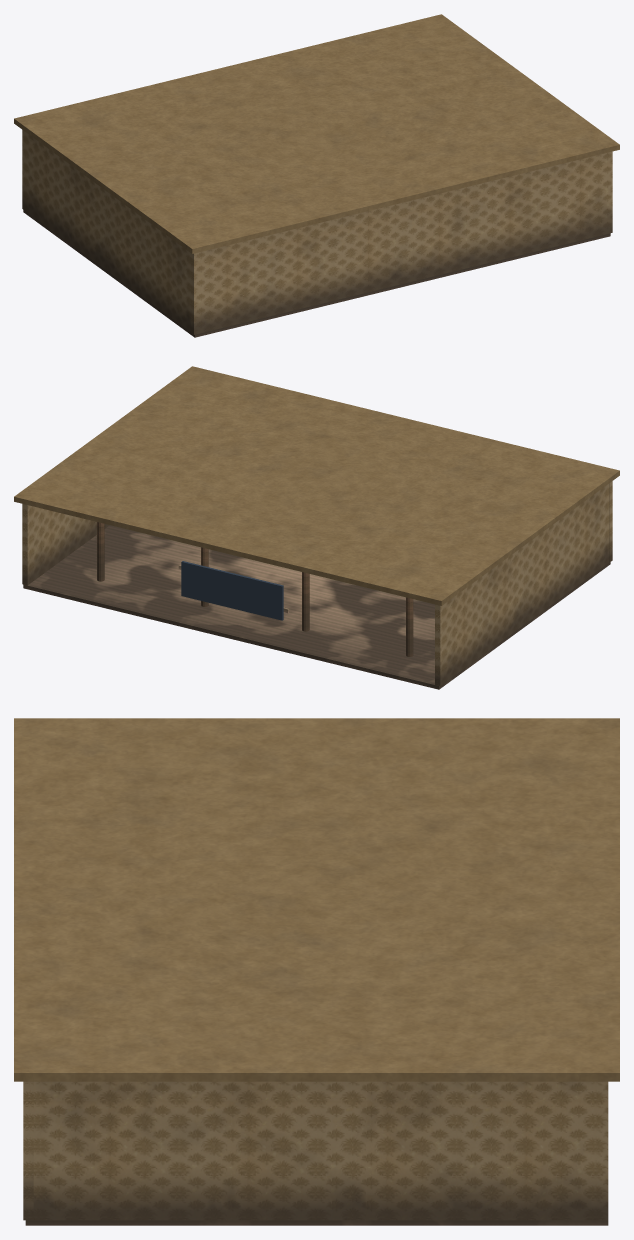
The model's file is abandoned_lounge.glb.
3 renders of one model, top to bottom at view 1: azimuth 30°, elevation 25°; view 2: azimuth 150°, elevation 25°; view 3: azimuth 270°, elevation 25°, orthographic. The views are drawn at different scales.
Visible parts, largest first — view 1: Roof, WallBack, WallLeft, Floor; view 2: Roof, Floor, WallLeft, WallRight, Ocean, Post_5.2_3.6, Post_-1.7_3.6, Post_-5.2_3.6; view 3: Roof, WallRight, Floor, WallBack.
Part boxes in pixels (box(x1,y1,x2,y2)): Roof: box(14, 14, 619, 253); WallBack: box(191, 151, 612, 334); WallLeft: box(22, 130, 190, 331); Floor: box(23, 210, 610, 337); Roof: box(14, 366, 619, 605); Floor: box(23, 525, 610, 689); WallLeft: box(435, 483, 609, 686); WallRight: box(22, 504, 109, 585); Ocean: box(181, 561, 283, 620); Post_5.2_3.6: box(97, 522, 104, 581); Post_-1.7_3.6: box(302, 572, 309, 631); Post_-5.2_3.6: box(406, 597, 413, 656); Roof: box(14, 718, 619, 1081); WallRight: box(33, 1081, 608, 1220); Floor: box(25, 1220, 608, 1225); WallBack: box(23, 1081, 33, 1220).
Size of the model in its own units: 14.4 by 2.98 by 10.4.
Materials: 55 (49 with a texture image).
